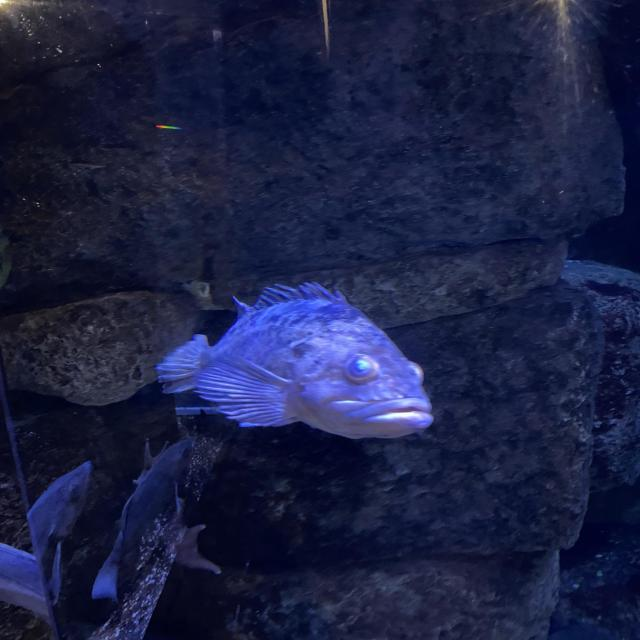fish: (157, 284, 433, 441)
